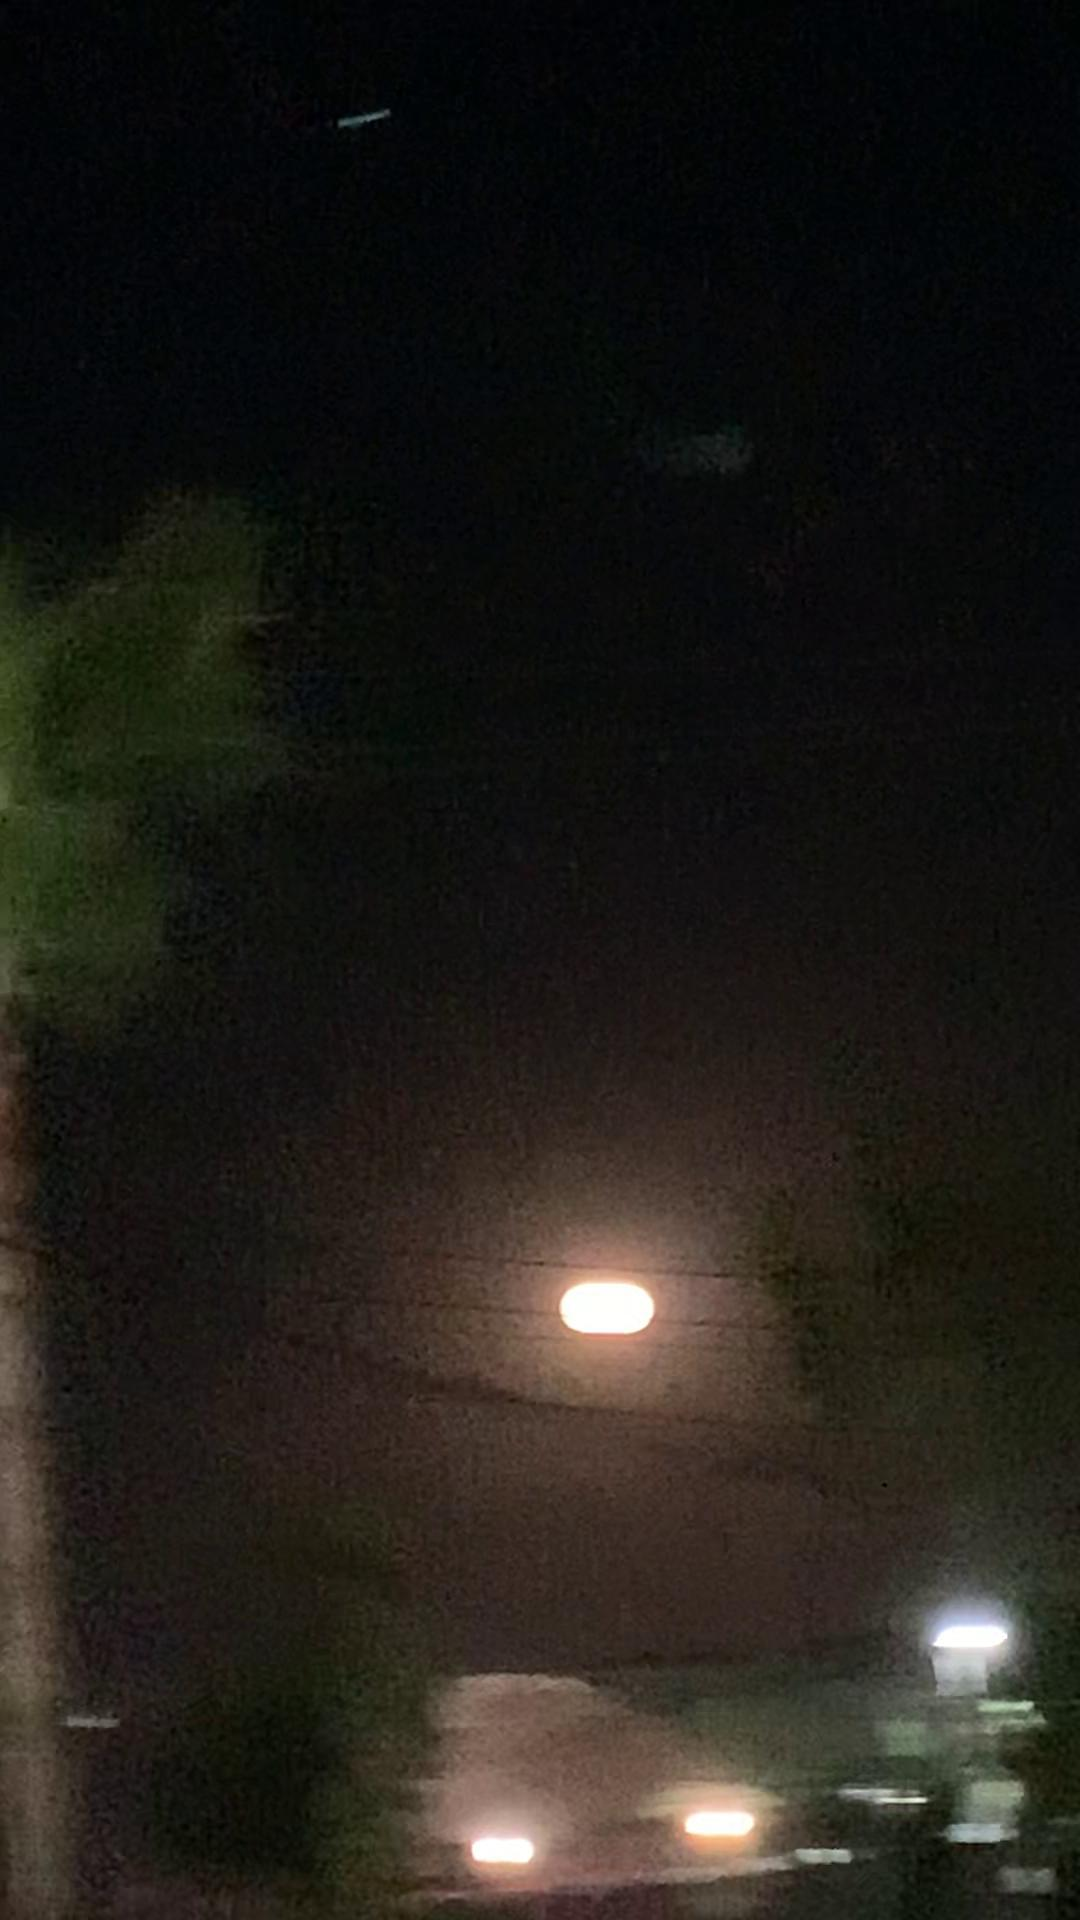moon: (561, 1259, 659, 1341)
